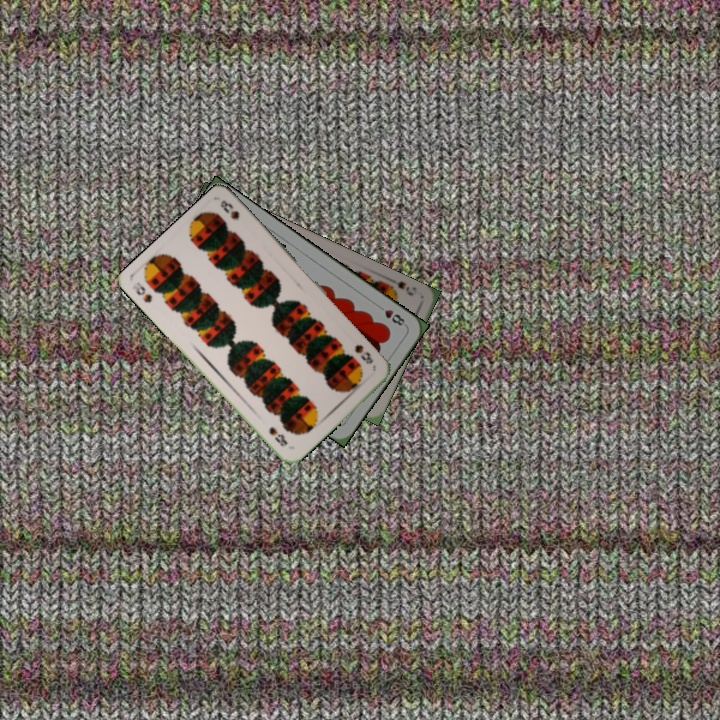H8: (373, 301, 409, 329)
S8: (128, 278, 155, 306), (351, 340, 376, 367)
S9: (382, 273, 416, 299)
